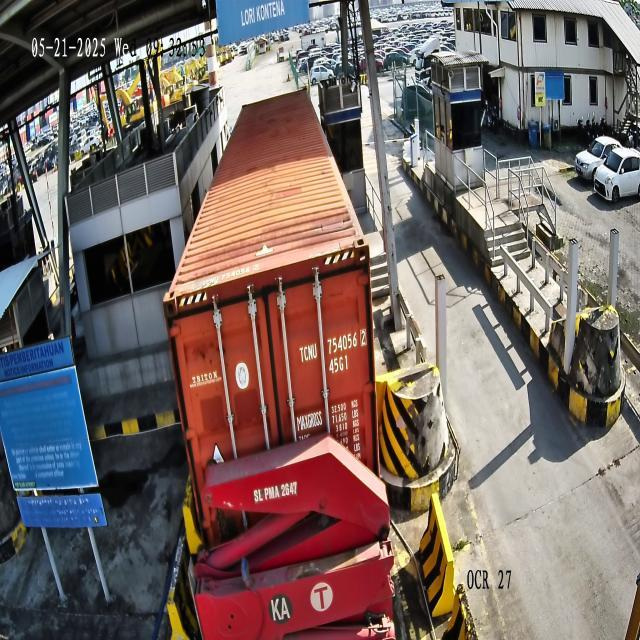ISO: (328, 354, 349, 376)
container_number: (298, 327, 368, 363)
